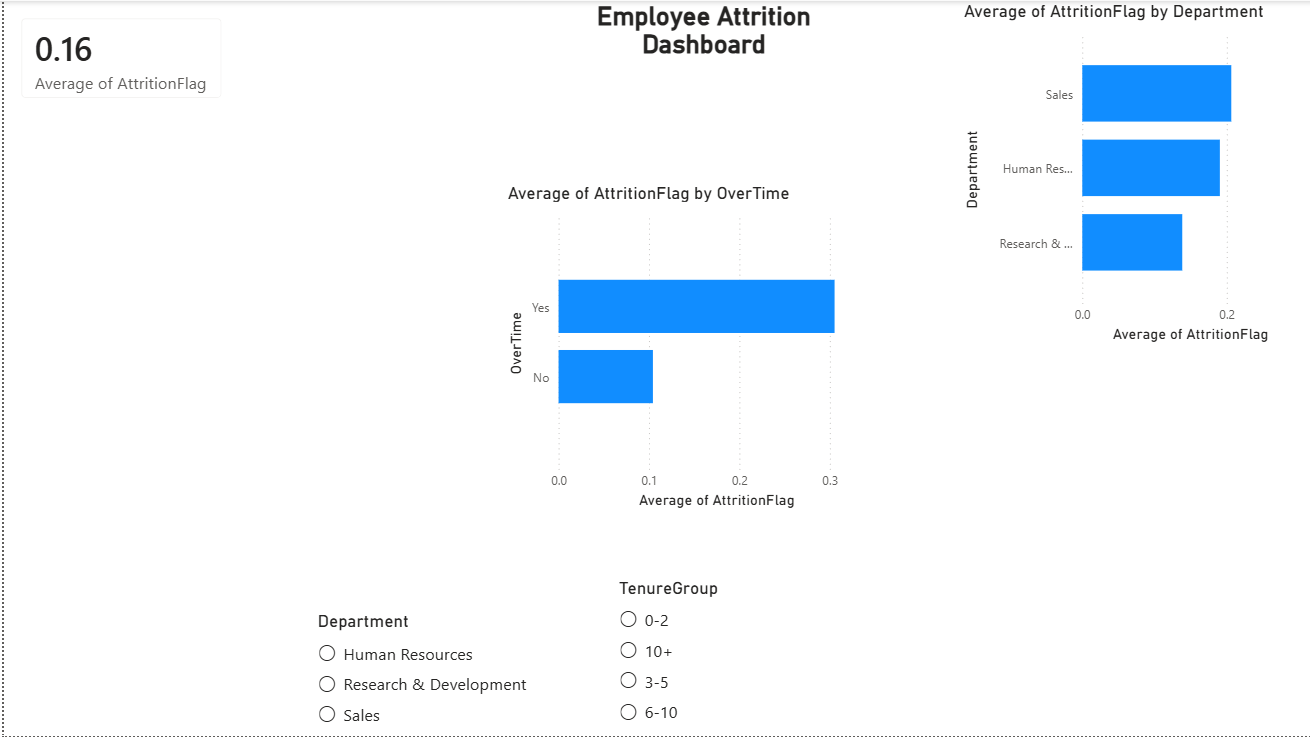

Layout of this report page (visuals, bound fields, positions):
{"tool":"powerbi","page":{"name":"Page 1","canvas":[1280,720],"ordinal":0},"visuals":[{"type":"clusteredBarChart","fields":{"Category":["HR_Attrition_cleaned.Department"],"Y":["Avg(HR_Attrition_cleaned.AttritionFlag)"]},"box":[934.5,0,345.8,338.9],"z":0},{"type":"barChart","fields":{"Category":["HR_Attrition_cleaned.OverTime"],"Y":["Avg(HR_Attrition_cleaned.AttritionFlag)"]},"box":[488.5,177,377.4,323.8],"z":1000},{"type":"cardVisual","fields":{"Data":["Avg(HR_Attrition_cleaned.AttritionFlag)"]},"box":[0,0,230.5,112.5],"z":2000},{"type":"listSlicer","fields":{"Values":["HR_Attrition_cleaned.Department"]},"box":[301.9,596.9,236,123.5],"z":3000},{"type":"listSlicer","fields":{"Values":["HR_Attrition_cleaned.TenureGroup"]},"box":[596.9,564,156.4,156.4],"z":4000},{"type":"textbox","box":[825,564,156,156],"z":5000},{"type":"textbox","title":"Employee Attrition  Dashboard","box":[495.2,0,379.1,56.3],"z":5001}]}

Visuals, with their boxes in screenshot pixels (x1, y1, x2, y2), scaled from the page's 1280x720 canvas onto the 1310x737 screenshot:
clusteredBarChart - HR_Attrition_cleaned.Department x Avg(HR_Attrition_cleaned.AttritionFlag): (left=956, top=0, right=1309, bottom=347)
barChart - HR_Attrition_cleaned.OverTime x Avg(HR_Attrition_cleaned.AttritionFlag): (left=500, top=181, right=886, bottom=513)
cardVisual - Avg(HR_Attrition_cleaned.AttritionFlag): (left=0, top=0, right=236, bottom=115)
listSlicer - HR_Attrition_cleaned.Department: (left=309, top=611, right=551, bottom=736)
listSlicer - HR_Attrition_cleaned.TenureGroup: (left=611, top=577, right=771, bottom=736)
textbox: (left=844, top=577, right=1004, bottom=736)
"Employee Attrition  Dashboard" textbox: (left=507, top=0, right=895, bottom=58)
